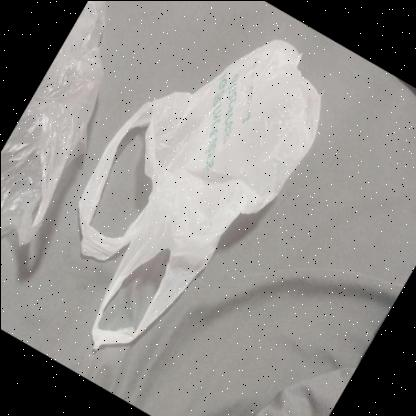Others: (76, 38, 322, 346)
